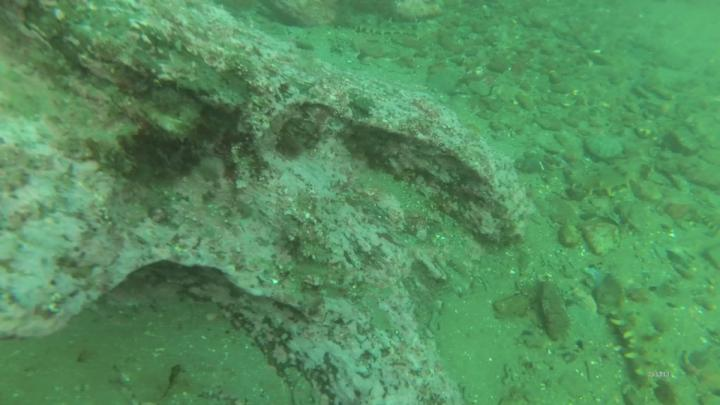holothurian: (608, 306, 657, 390), (571, 171, 642, 202), (351, 23, 423, 41)
